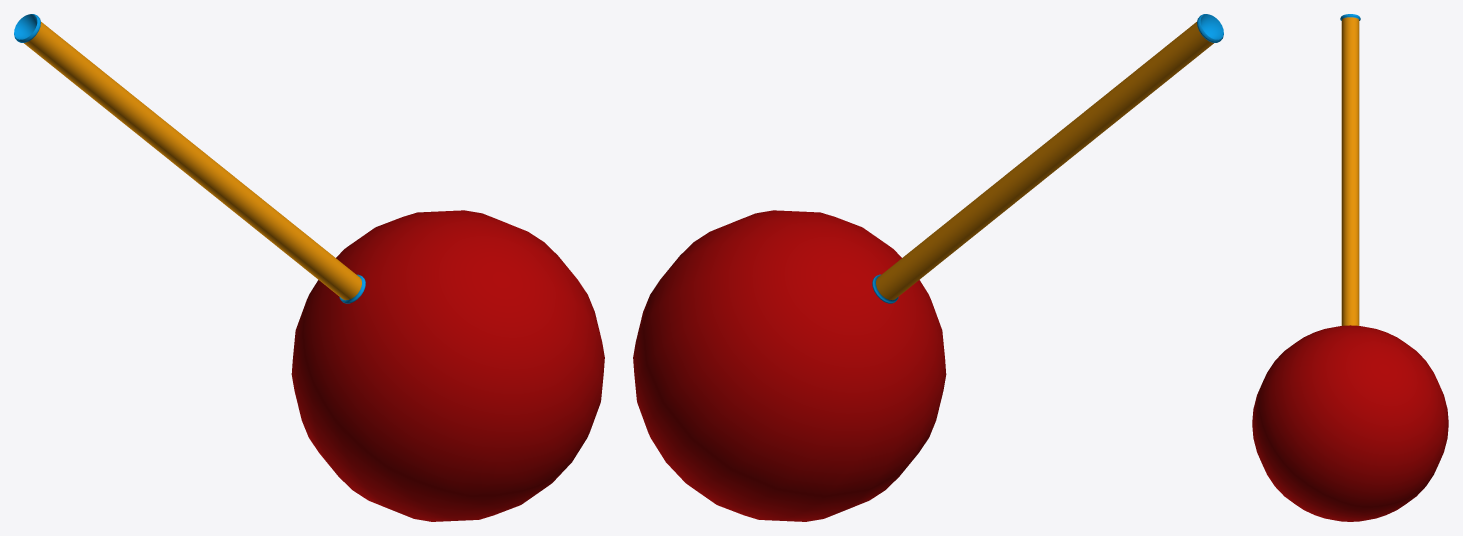
Rendered from obstacle06.fbx.
The picture shows the model from 3 angles, left to right: view 1: azimuth 30°, elevation 25°; view 2: azimuth 150°, elevation 25°; view 3: azimuth 270°, elevation 25°; orthographic projection. The views are drawn at different scales.
Parts seen in each view (by area): view 1: obstacle02; view 2: obstacle02; view 3: obstacle02.
Boxes of the visible parts, x1,y1,x2,y2 form: obstacle02: [14, 14, 604, 521]; obstacle02: [633, 14, 1223, 521]; obstacle02: [1252, 14, 1448, 521].
Bounding box in the file's own units: 378 × 378 × 181.
